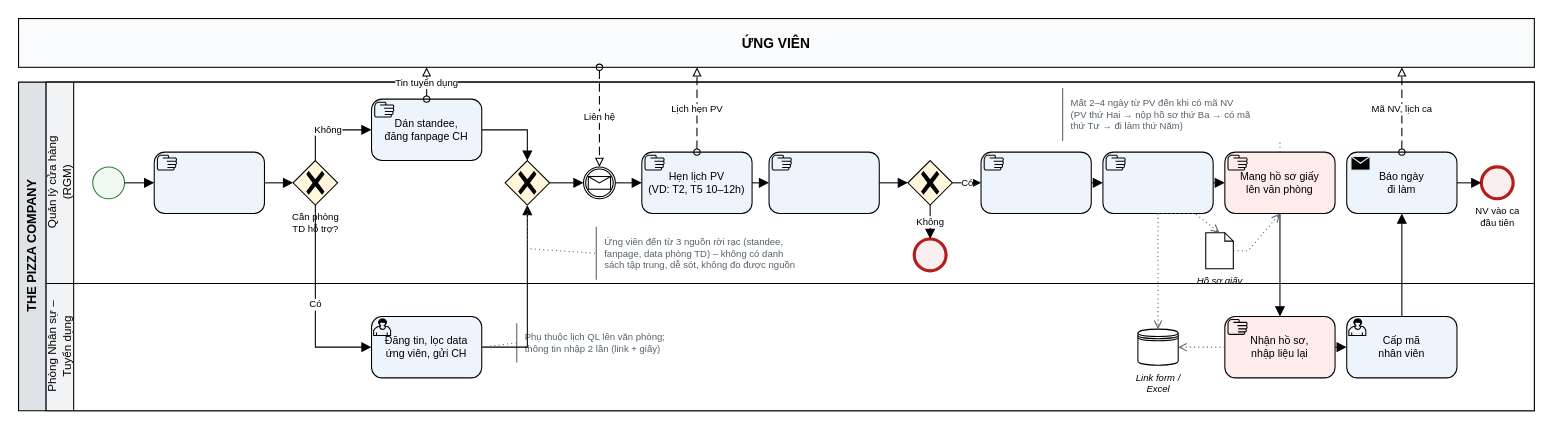
The diagram is 1553 pixels wide and 429 high, and some of its shapes have lost their labels. The centre of each missing label's shape, as x and y in pixels:
"Kiểm tra / hướng dẫn mở TK Techcombank" goes at pixel 1035 182.
"Phỏng vấn chung, chọn quầy phù hợp" goes at pixel 823 182.
"Thiếu nhân sự" goes at pixel 108 182.
"Từ chối" goes at pixel 929 254.
"Xác định nhu cầu (số người, ca, quầy)" goes at pixel 208 182.
"Điền link thông tin + phiếu hồ sơ giấy" goes at pixel 1157 182.
"Đạt?" goes at pixel 929 182.
"Ứng viên hỏi (trực tiếp/inbox)" goes at pixel 598 182.
